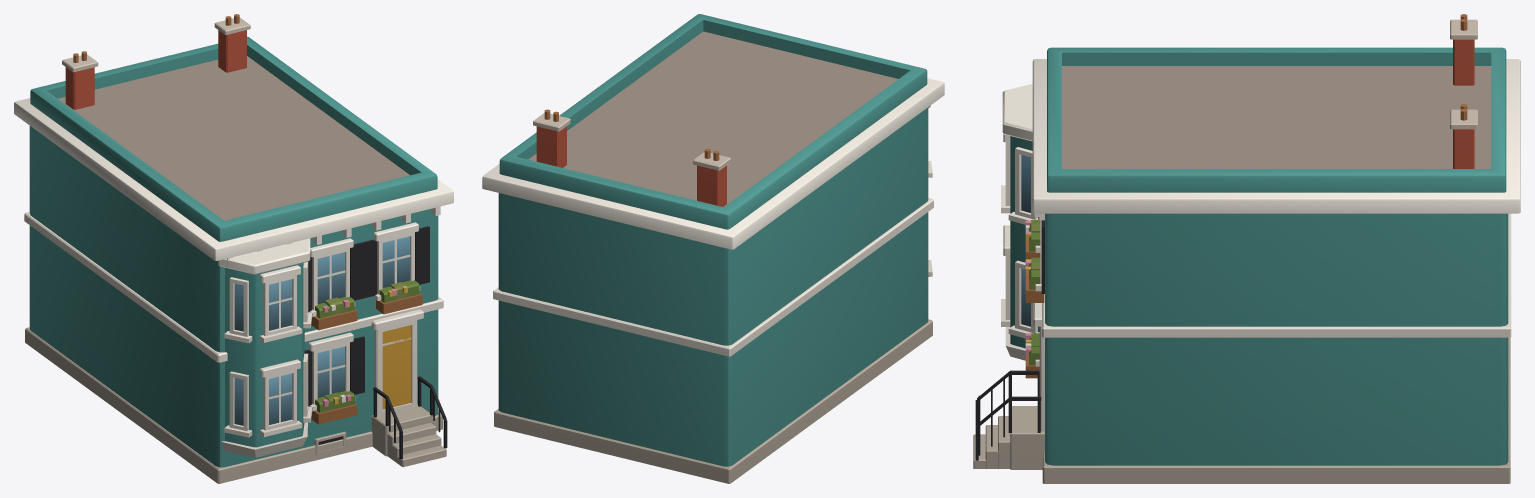
The model's file is beacon_n13.glb.
3 views of the same model, side by side, from view 1: azimuth 30°, elevation 25°; view 2: azimuth 150°, elevation 25°; view 3: azimuth 270°, elevation 25° (orthographic). The views are drawn at different scales.
Parts seen in each view (by area): view 1: beacon_n13; view 2: beacon_n13; view 3: beacon_n13.
Part boxes in pixels (x1,y1,x2,y2): beacon_n13: (14, 14, 453, 483); beacon_n13: (482, 14, 944, 483); beacon_n13: (973, 14, 1520, 483).
Bounding box in the file's own units: 8.64 × 10.14 × 14.18.
1 material, 1 textured.
